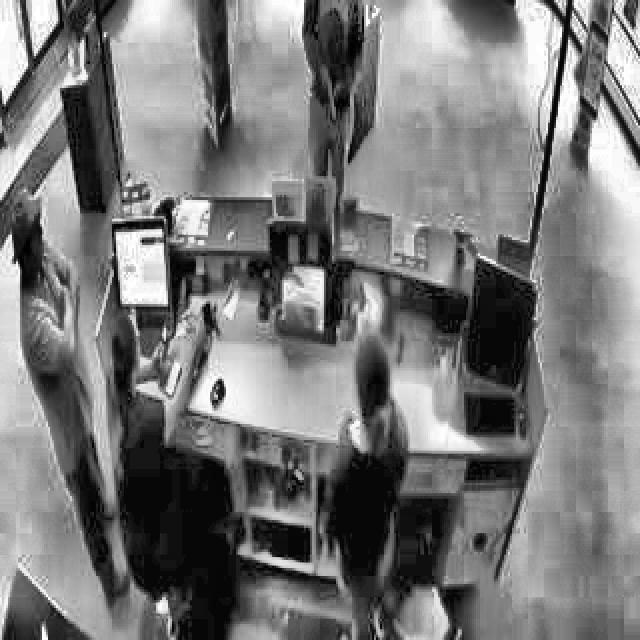robbery: (302, 2, 371, 198)
